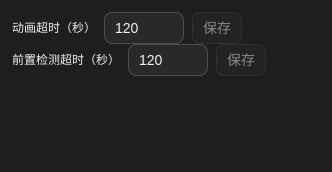
Test: 超时超出范围时阻止写入，回车只保存当前超时而不提交外层表单
The image size is (332, 172).
Replace the text in the number field labelled "动画超时（秒）" with "121" at {"x": 144, "y": 28}, box [104,12,184,44]
Then press Enter
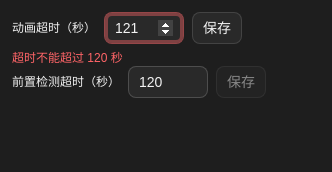
Check: the number field labelled "动画超时（秒）" is marked as invalid
Replace the text in the number field labelled "动画超时（秒）" with "90" at {"x": 144, "y": 28}, box [104,12,184,44]
Then press Enter
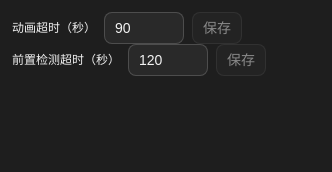
Check: the button with aria-label "保存动画超时" is disabled, box [192,12,242,44]
Check: the number field labelled "动画超时（秒）" holds "90", box [104,12,184,44]
